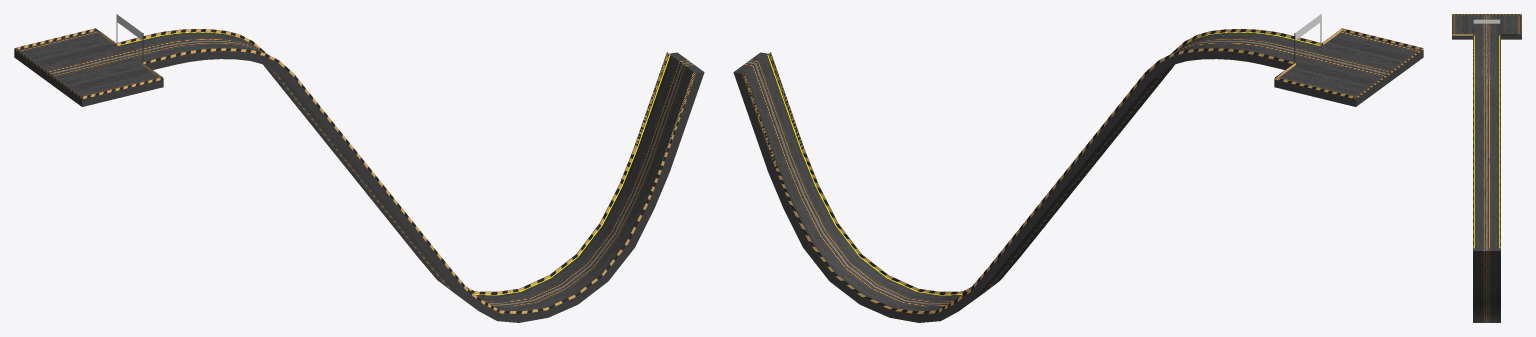
File: Road.fbx
3 views of the same model, side by side, from view 1: azimuth 30°, elevation 25°; view 2: azimuth 150°, elevation 25°; view 3: azimuth 270°, elevation 25° (orthographic). The views are drawn at different scales.
Parts seen in each view (by area): view 1: Platform_z; view 2: Platform_z; view 3: Platform_z.
Part boxes in pixels (left/top/right/bottom): Platform_z: left=14, top=14, right=704, bottom=322; Platform_z: left=733, top=14, right=1423, bottom=322; Platform_z: left=1452, top=14, right=1521, bottom=322.
Size of the model in its own units: 888 by 506 by 162.
Materials: 5 (2 with a texture image).
